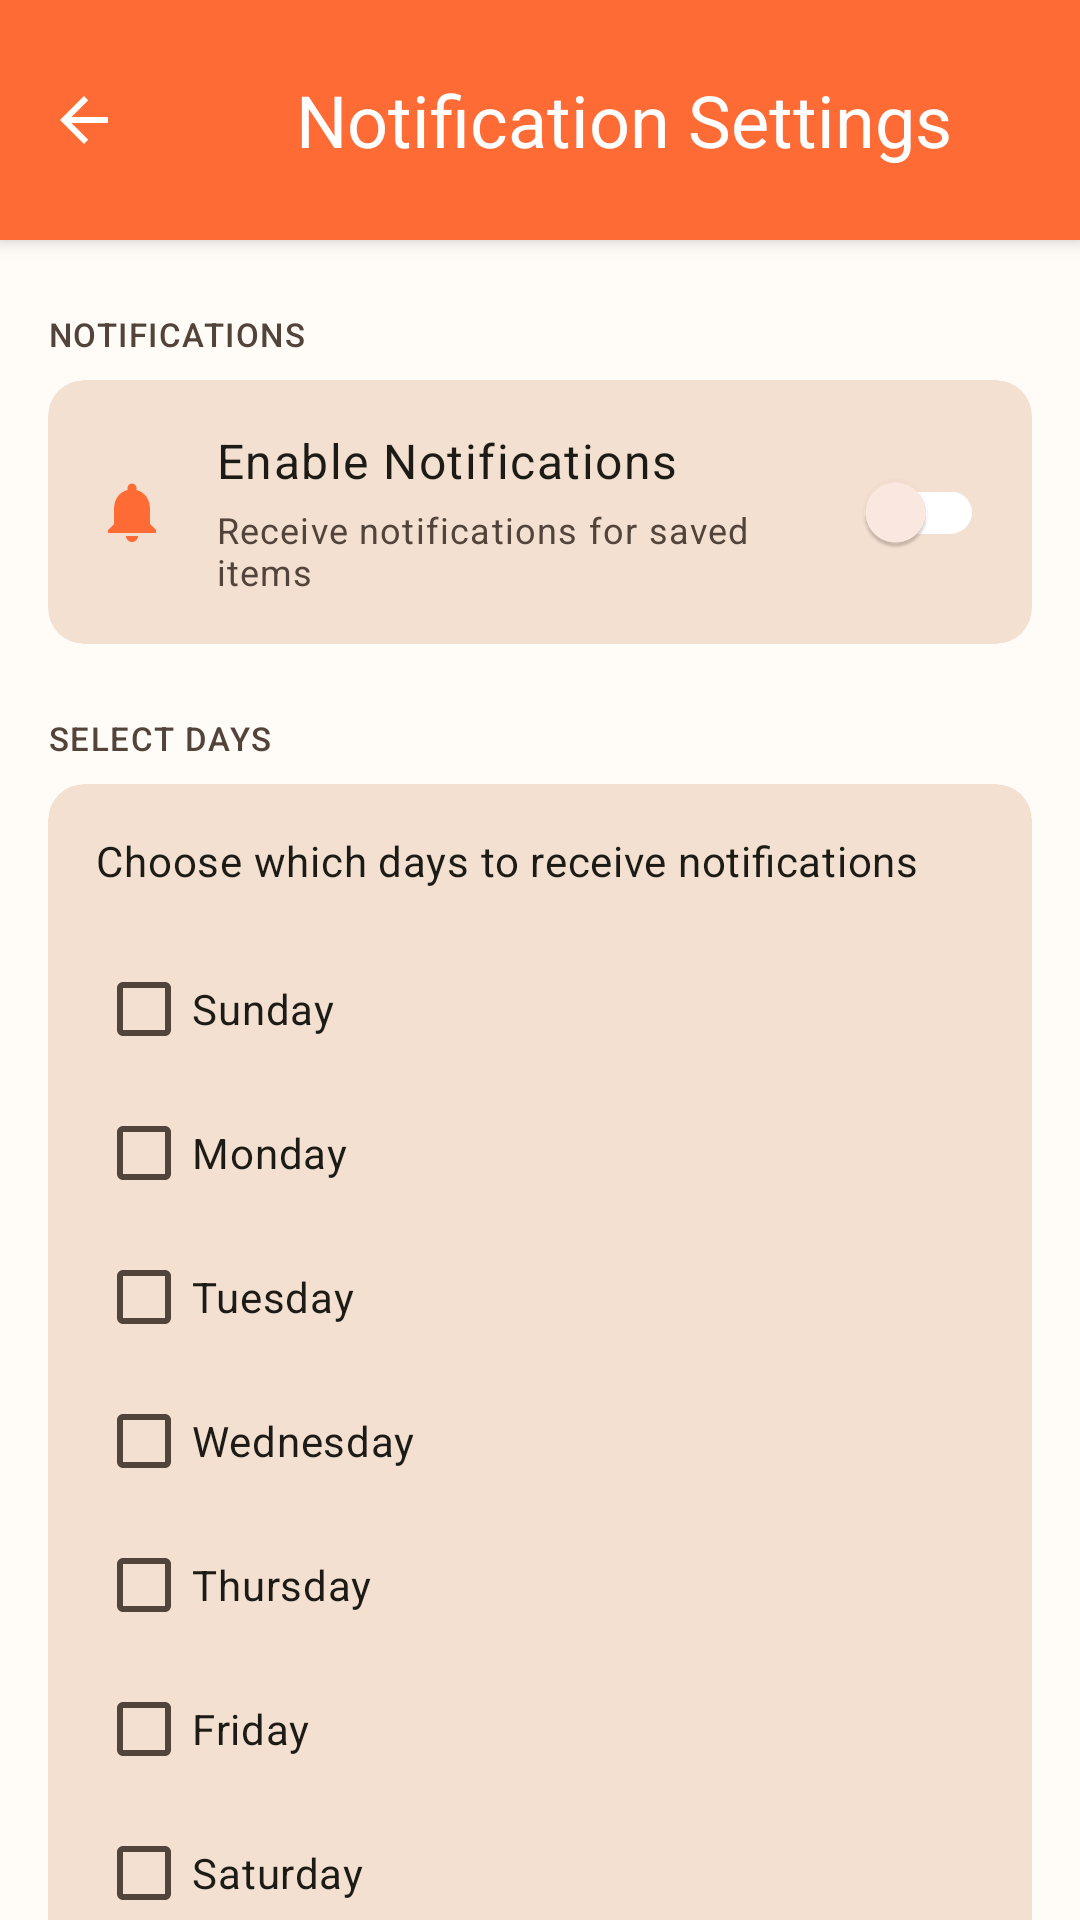

Icon click points for this 1080 × 1920 phone screenshot, format point (x, y):
arrow back: point (84, 120)
bell: point (132, 512)
